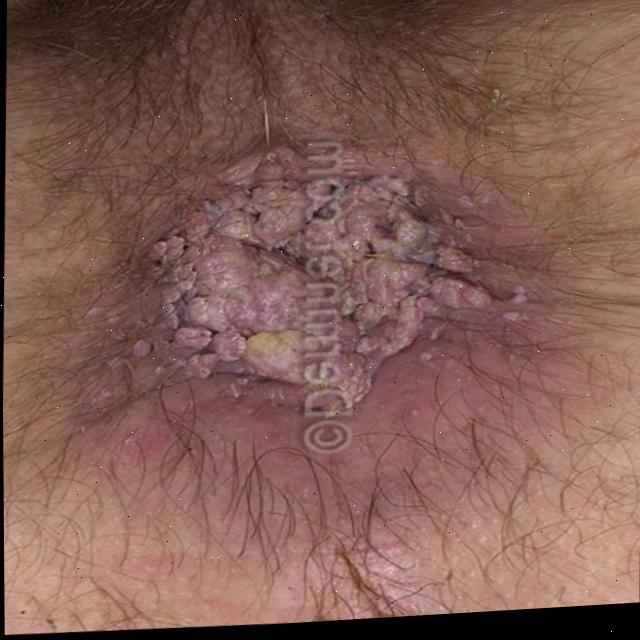Shingles: (129, 128, 498, 424)
